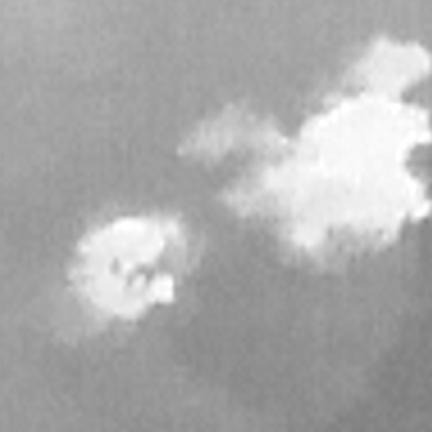flukeprints: (230, 87, 431, 252), (67, 214, 186, 332)
